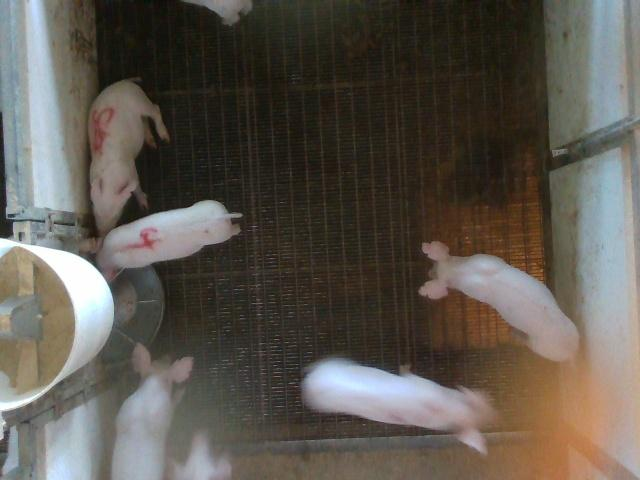pig-4: (81, 200, 241, 282)
pig-5: (89, 78, 170, 238)
